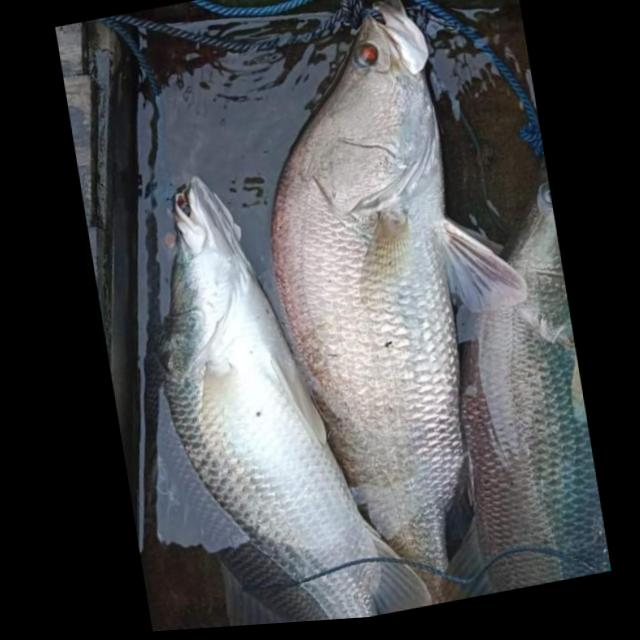Seabass: (225, 0, 572, 625), (118, 138, 430, 633), (412, 135, 612, 598)
